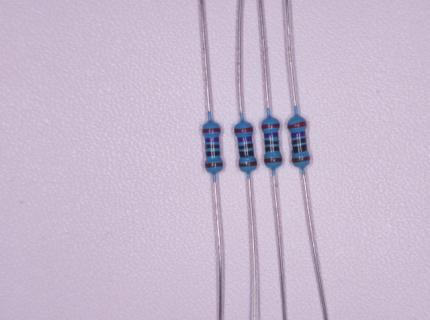Black band: (293, 144, 307, 153), (292, 137, 306, 145), (238, 143, 253, 150), (239, 150, 254, 157), (206, 151, 220, 157), (265, 147, 280, 152), (265, 140, 279, 145), (205, 145, 220, 149)
Brown band: (292, 156, 310, 163), (239, 161, 258, 167), (264, 157, 282, 163), (205, 163, 223, 168)
Red band: (288, 121, 307, 129), (234, 126, 253, 133), (261, 123, 280, 129), (202, 128, 220, 133)
Violet band: (291, 131, 306, 137), (238, 136, 252, 142), (264, 132, 278, 138), (204, 137, 218, 142)
